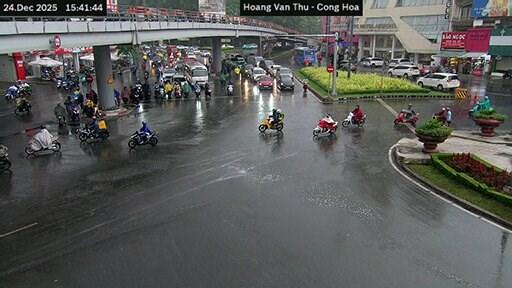motorbike: (26, 136, 60, 153), (128, 130, 156, 148), (77, 125, 108, 140), (313, 115, 336, 135), (394, 109, 418, 125), (258, 115, 282, 130), (341, 112, 364, 126), (0, 144, 9, 169), (13, 103, 31, 115), (467, 103, 480, 116), (70, 104, 79, 121), (432, 112, 444, 122), (131, 90, 140, 103), (5, 89, 16, 99), (154, 85, 163, 97), (19, 85, 31, 94), (41, 71, 53, 80), (172, 88, 181, 98), (57, 115, 64, 125), (204, 86, 210, 97), (227, 84, 233, 94), (195, 86, 199, 97), (144, 71, 149, 79), (303, 81, 307, 91), (134, 86, 140, 90)
